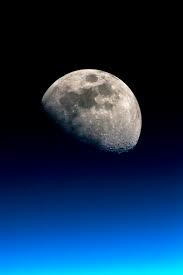moon: (40, 69, 142, 153)
